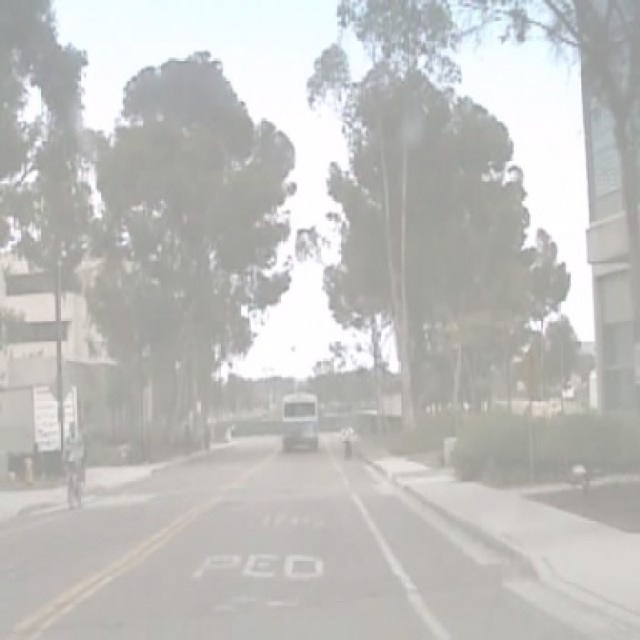pedestrianCrossing: (516, 336, 546, 400)
